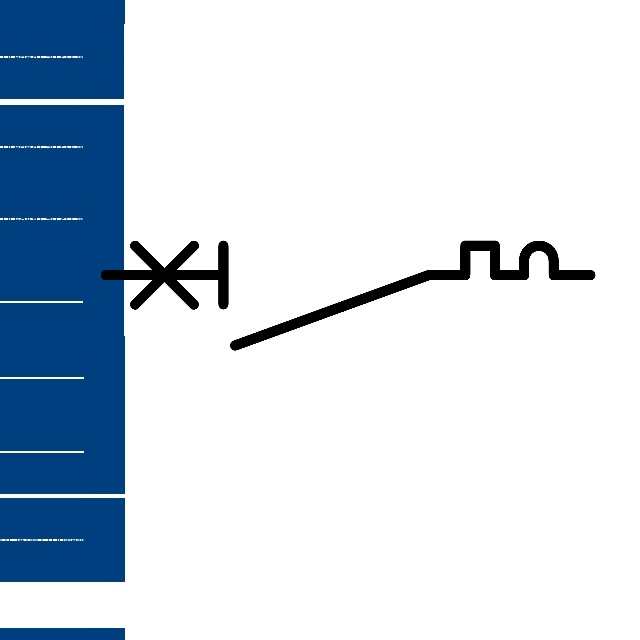interruptor_termomagnetico: (93, 233, 603, 357)
